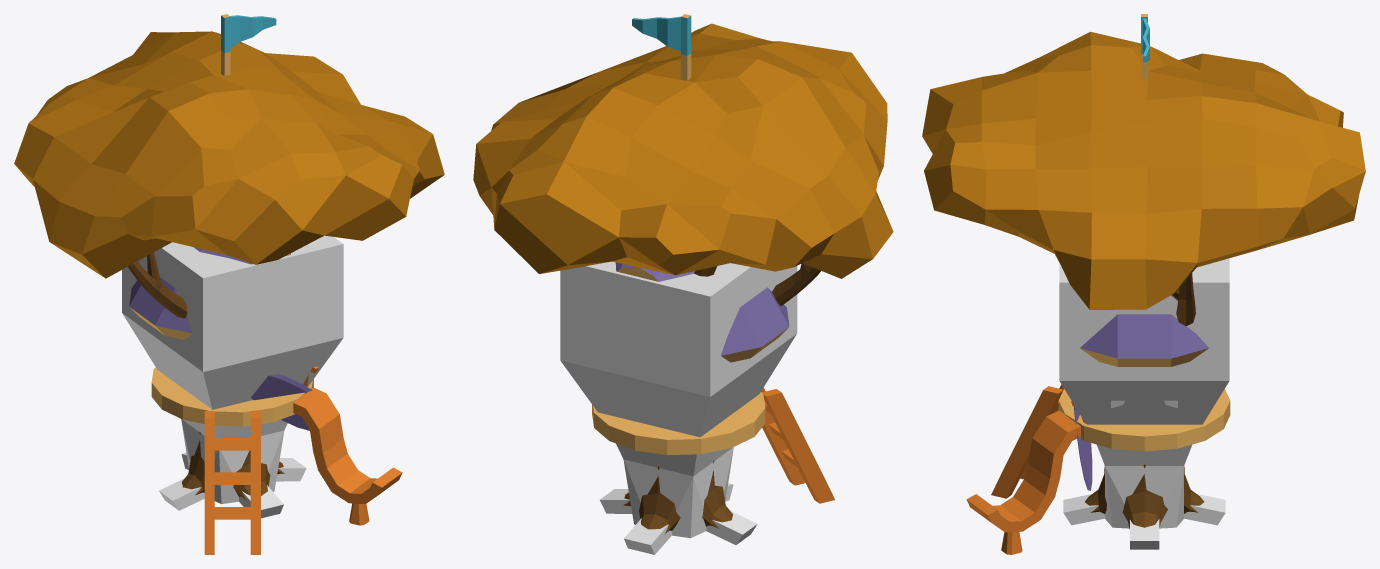
File: sovunya_house.glb
3 renders of one model, left to right at view 1: azimuth 30°, elevation 25°; view 2: azimuth 150°, elevation 25°; view 3: azimuth 270°, elevation 25°, orthographic. The views are drawn at different scales.
Parts seen in each view (by area): view 1: Mball.019, Cube.002, BézierCurve, Cube.003, Cylinder, Cube.001, Cube.014, Cube.010, Cube, Cylinder.002; view 2: Mball.019, Cube.002, Cylinder, Cube.001, Cube.003, Cube, Cube.014, Cube.010; view 3: Mball.019, Cube.002, BézierCurve, Cube.001, Cylinder, Cube, Cube.003, Cube.013, Cylinder.002.
Part boxes in pixels (x1,y1,x2,y2): Mball.019: [14, 31, 444, 278]; Cube.002: [122, 235, 343, 518]; BézierCurve: [293, 388, 402, 503]; Cube.003: [204, 411, 260, 554]; Cylinder: [151, 367, 313, 426]; Cube.001: [129, 247, 290, 339]; Cube.014: [221, 14, 276, 75]; Cube.010: [128, 252, 187, 318]; Cube: [182, 431, 284, 500]; Cylinder.002: [251, 374, 312, 430]; Mball.019: [473, 23, 893, 278]; Cube.002: [560, 261, 797, 554]; Cylinder: [592, 392, 765, 455]; Cube.001: [615, 262, 789, 362]; Cube.003: [761, 387, 834, 503]; Cube: [623, 460, 732, 533]; Cube.014: [632, 14, 691, 80]; Cube.010: [772, 263, 820, 305]; Mball.019: [922, 31, 1365, 309]; Cube.002: [1059, 258, 1229, 549]; BézierCurve: [966, 410, 1080, 532]; Cube.001: [1080, 314, 1208, 366]; Cylinder: [1058, 389, 1230, 451]; Cube: [1085, 464, 1204, 529]; Cube.003: [991, 384, 1063, 498]; Cube.013: [1171, 273, 1195, 325]; Cylinder.002: [1074, 407, 1092, 490].
Bounding box in the file's own units: 5.93 × 7.34 × 5.9.
